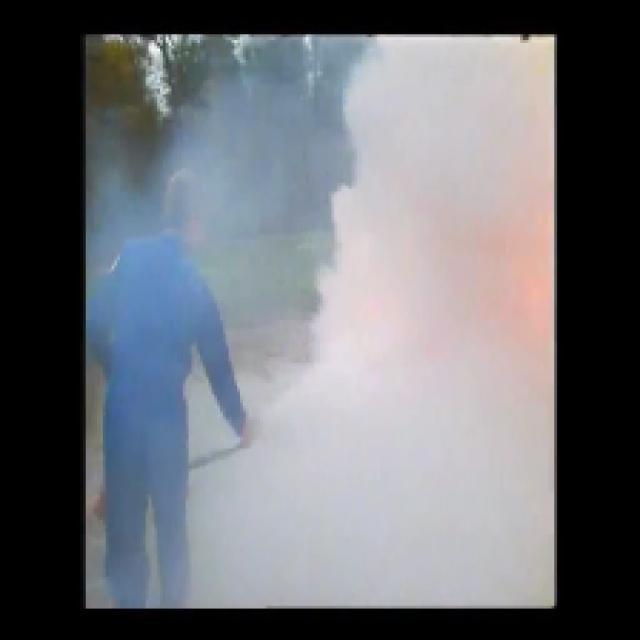Smoke: (343, 69, 554, 608)
